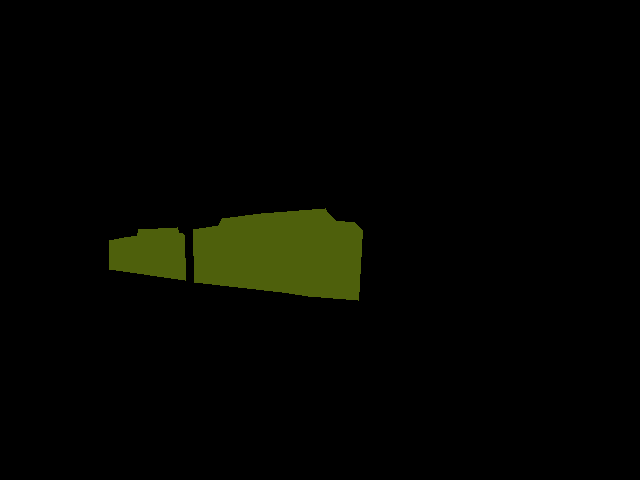Train: (109, 208, 362, 301)
